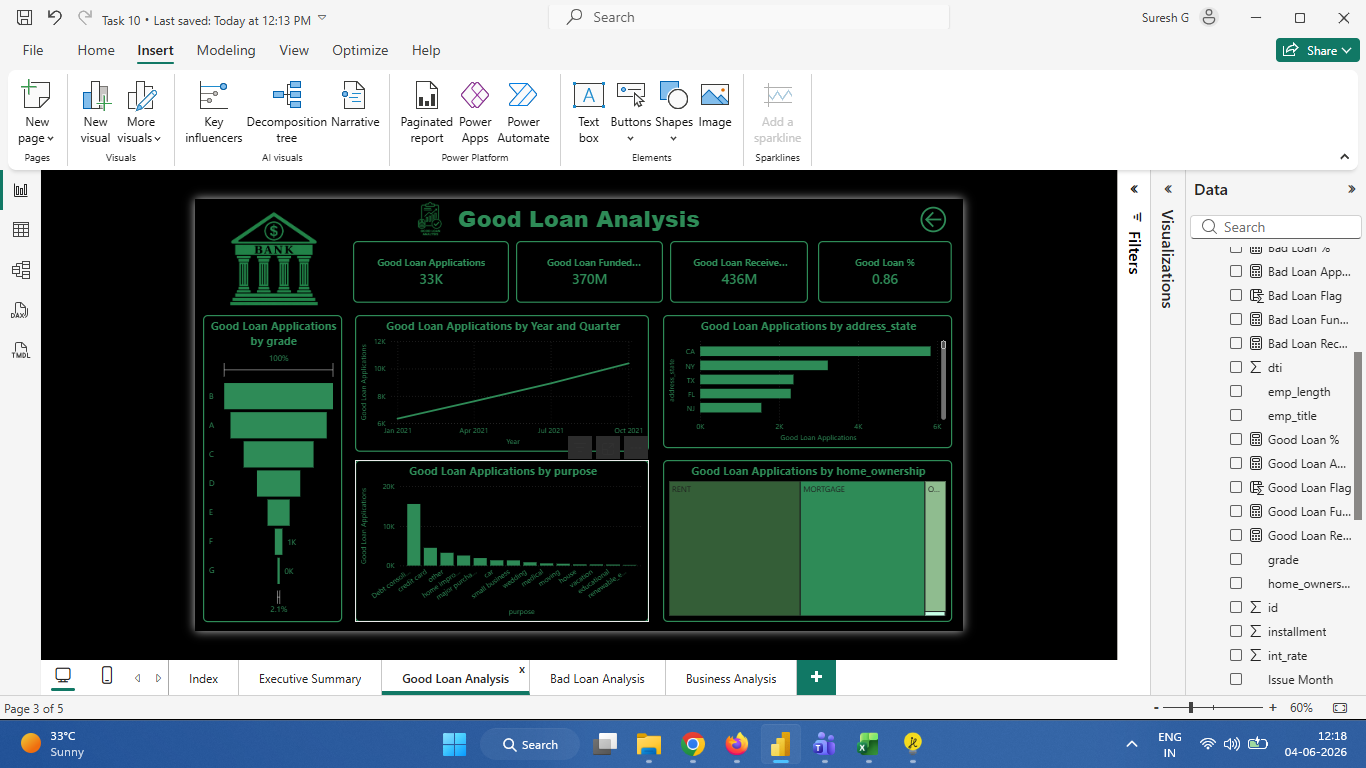

What the dashboard file says about the page in this screenshot:
{"tool":"powerbi","page":{"name":"Good Loan Analysis","canvas":[1280,720],"ordinal":2},"visuals":[{"type":"textbox","box":[0,0,1280,66.7],"z":0},{"type":"image","box":[0,0,263.3,206.7],"z":1},{"type":"image","box":[353.3,0,76.7,66.7],"z":2},{"type":"cardVisual","fields":{"Data":["financial_loan.Good Loan Applications"]},"box":[263.3,70,260,103.3],"z":3},{"type":"cardVisual","fields":{"Data":["financial_loan.Good Loan Funded Amount"]},"box":[535,70,245,103.3],"z":4},{"type":"cardVisual","fields":{"Data":["financial_loan.Good Loan Received Amount"]},"box":[791.7,70,230,103.3],"z":5},{"type":"cardVisual","fields":{"Data":["financial_loan.Good Loan %"]},"box":[1038.3,70,223.3,103.3],"z":6},{"type":"clusteredBarChart","fields":{"Category":["financial_loan.address_state"],"Y":["financial_loan.Good Loan Applications"]},"box":[780,193.3,481.7,221.7],"z":7},{"type":"lineChart","fields":{"Category":["financial_loan.issue_date.Variation.Date Hierarchy.Year","financial_loan.issue_date.Variation.Date Hierarchy.Quarter","financial_loan.issue_date.Variation.Date Hierarchy.Month","financial_loan.issue_date.Variation.Date Hierarchy.Day"],"Y":["financial_loan.Good Loan Applications"]},"box":[266.7,193.3,490,228.3],"z":8},{"type":"clusteredColumnChart","fields":{"Category":["financial_loan.purpose"],"Y":["financial_loan.Good Loan Applications"]},"box":[266.7,435,490,270],"z":9},{"type":"treemap","fields":{"Group":["financial_loan.home_ownership"],"Values":["financial_loan.Good Loan Applications"]},"box":[780,435,481.7,270],"z":10},{"type":"funnel","fields":{"Y":["financial_loan.Good Loan Applications"],"Category":["financial_loan.grade"]},"box":[13.3,193.3,231.7,511.7],"z":11},{"type":"actionButton","box":[1180,6.7,100,55],"z":12}]}

Visuals, with their boxes on the page's 1280x720 design canvas (x1, y1, x2, y2). These are canvas units, not pixel positions in the 1366x768 screenshot, which may show the page scaled, cropped or inside an application window:
textbox: (left=0, top=0, right=1280, bottom=67)
image: (left=0, top=0, right=263, bottom=207)
image: (left=353, top=0, right=430, bottom=67)
cardVisual - financial_loan.Good Loan Applications: (left=263, top=70, right=523, bottom=173)
cardVisual - financial_loan.Good Loan Funded Amount: (left=535, top=70, right=780, bottom=173)
cardVisual - financial_loan.Good Loan Received Amount: (left=792, top=70, right=1022, bottom=173)
cardVisual - financial_loan.Good Loan %: (left=1038, top=70, right=1262, bottom=173)
clusteredBarChart - financial_loan.address_state x financial_loan.Good Loan Applications: (left=780, top=193, right=1262, bottom=415)
lineChart - financial_loan.issue_date.Variation.Date Hierarchy.Year x financial_loan.issue_date.Variation.Date Hierarchy.Quarter: (left=267, top=193, right=757, bottom=422)
clusteredColumnChart - financial_loan.purpose x financial_loan.Good Loan Applications: (left=267, top=435, right=757, bottom=705)
treemap - financial_loan.home_ownership x financial_loan.Good Loan Applications: (left=780, top=435, right=1262, bottom=705)
funnel - financial_loan.Good Loan Applications x financial_loan.grade: (left=13, top=193, right=245, bottom=705)
actionButton: (left=1180, top=7, right=1280, bottom=62)
